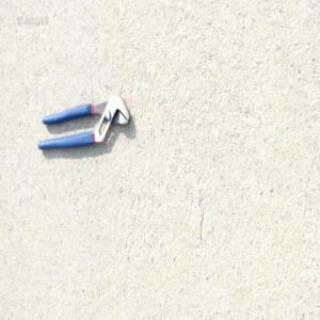Pliertrack_idkeyframe: (36, 90, 130, 152)
